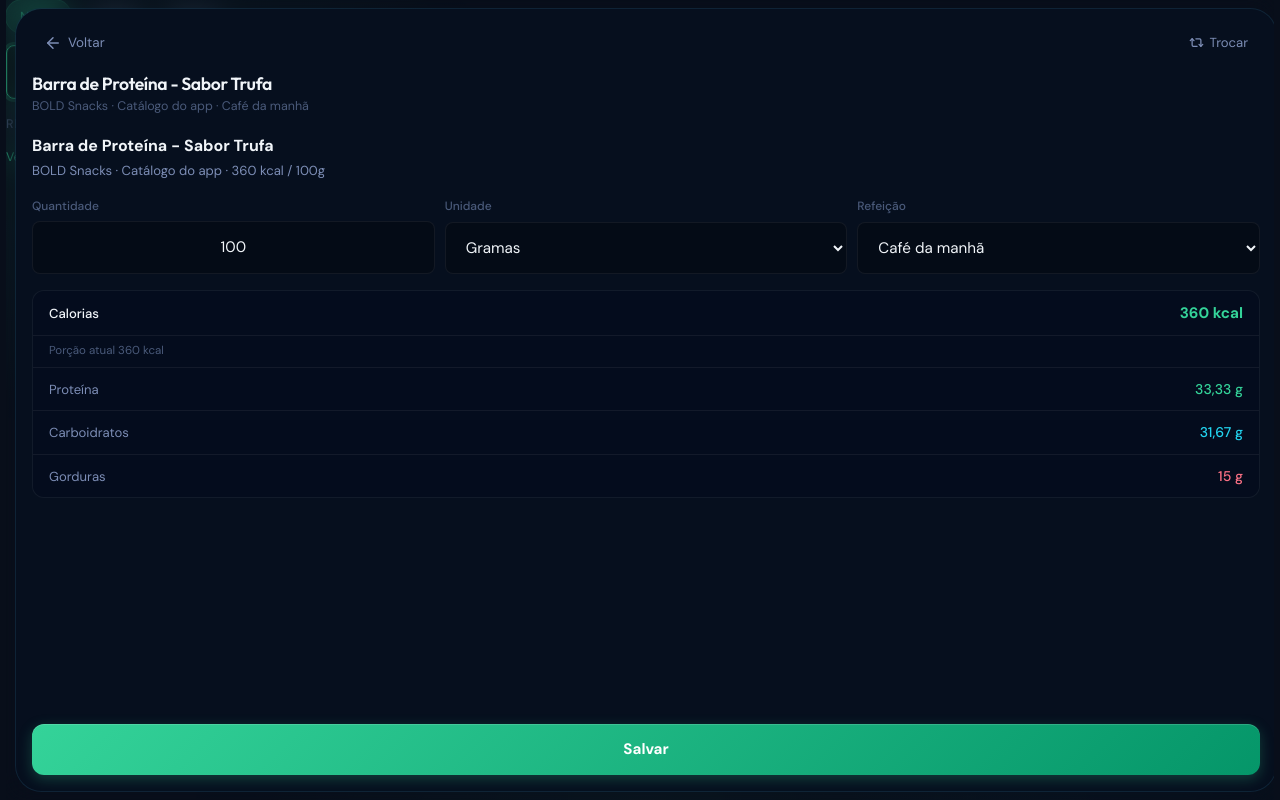
Test: FoodSearchPanel › falls back to the ready card after closing the mobile composer
Click the button "Voltar" at [74, 43], box left=32, top=25, right=117, bottom=61
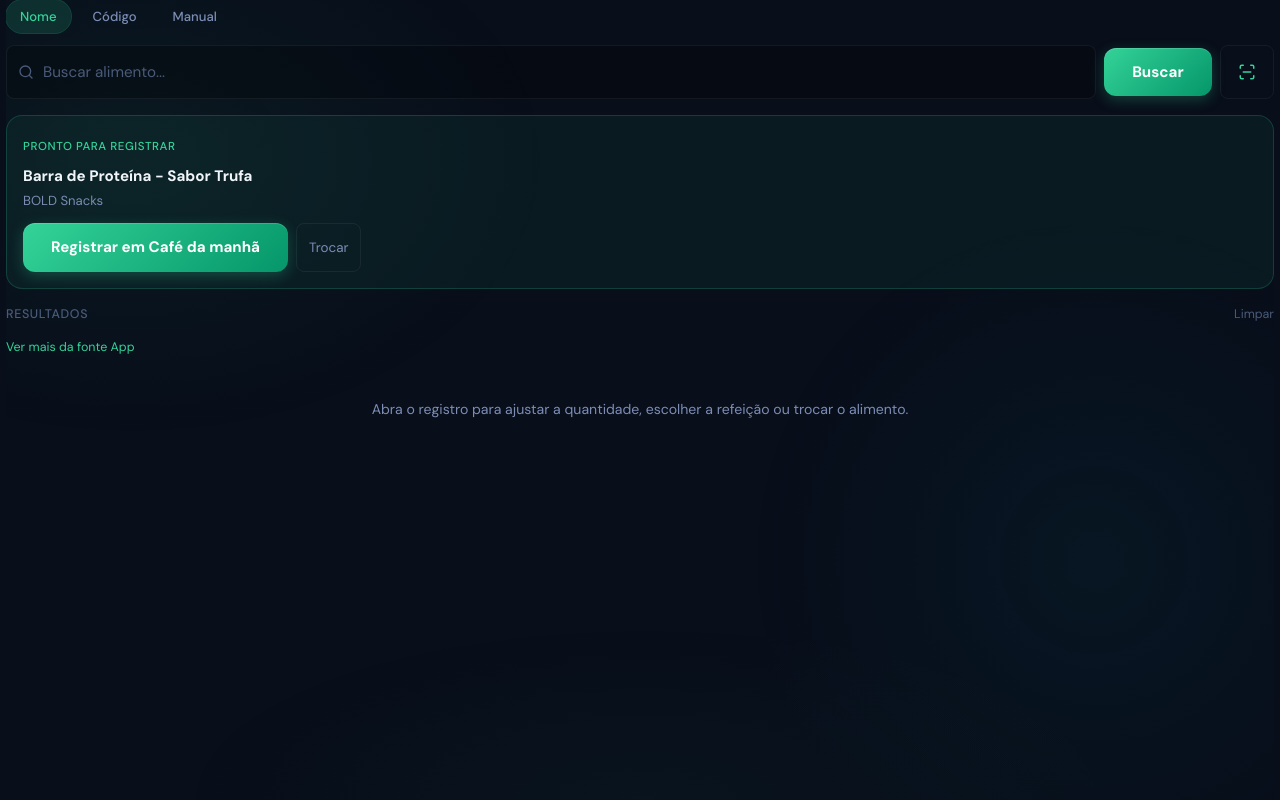
Result: the text "Pronto para registrar" is shown at left=23, top=139, right=176, bottom=154
Result: the button "Registrar em Café da manhã" is shown at left=23, top=223, right=288, bottom=272
